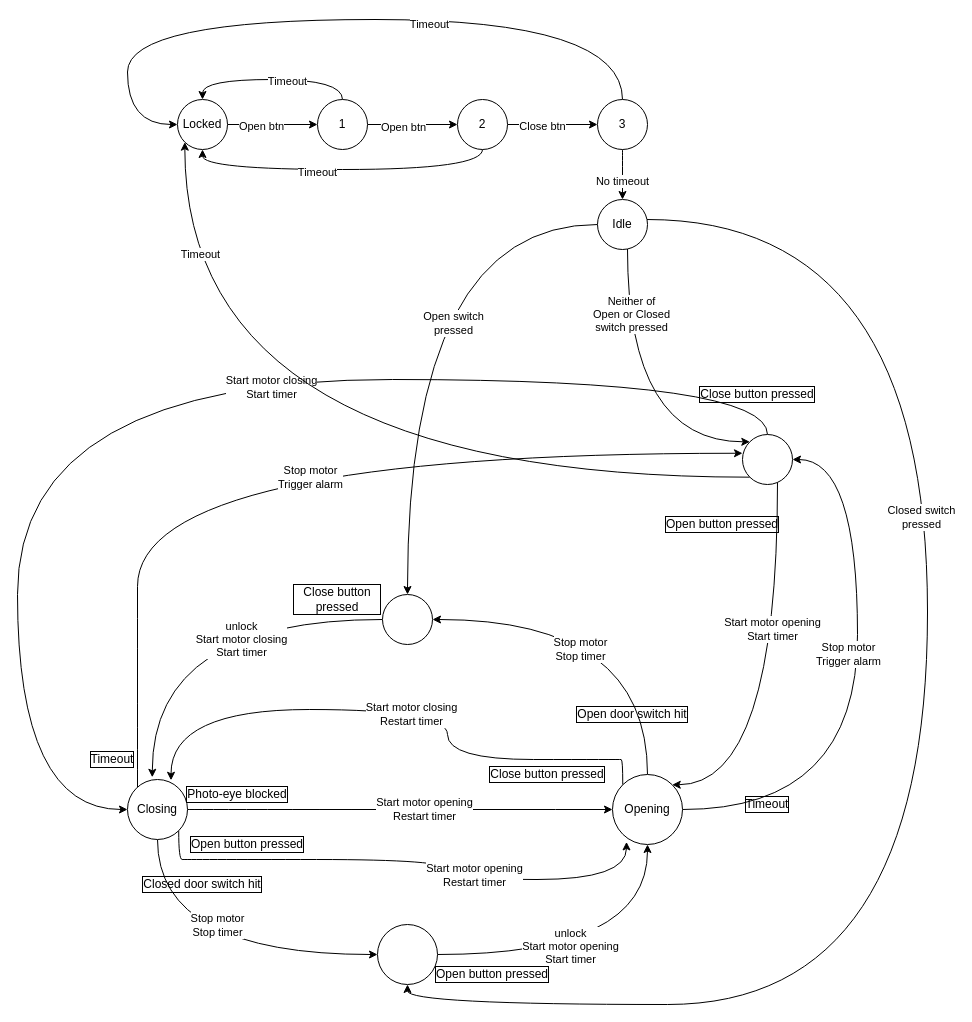
This 972x1022 diagram has some shape labels left out. The shapes that lost their labels are listed below. From the top down, each one's centre as x and y in pixels, then its label:
At [767,459]: "Alarm".
At [407,619]: "Open".
At [407,954]: "Closed".
